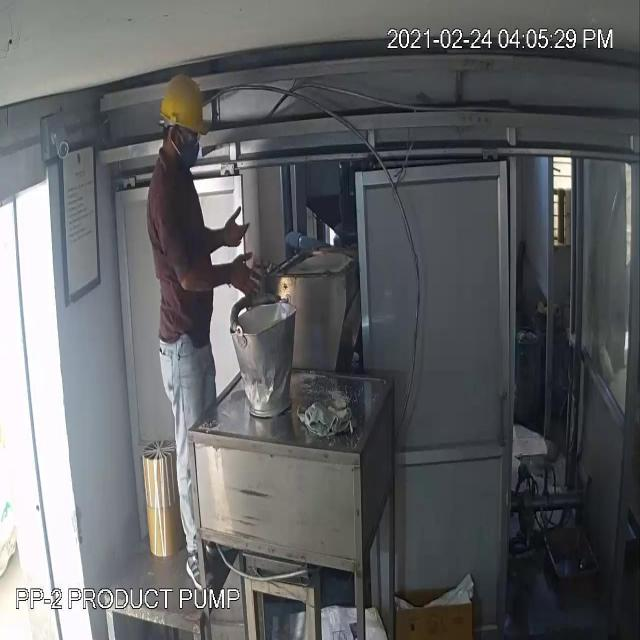hat: (157, 64, 214, 144)
